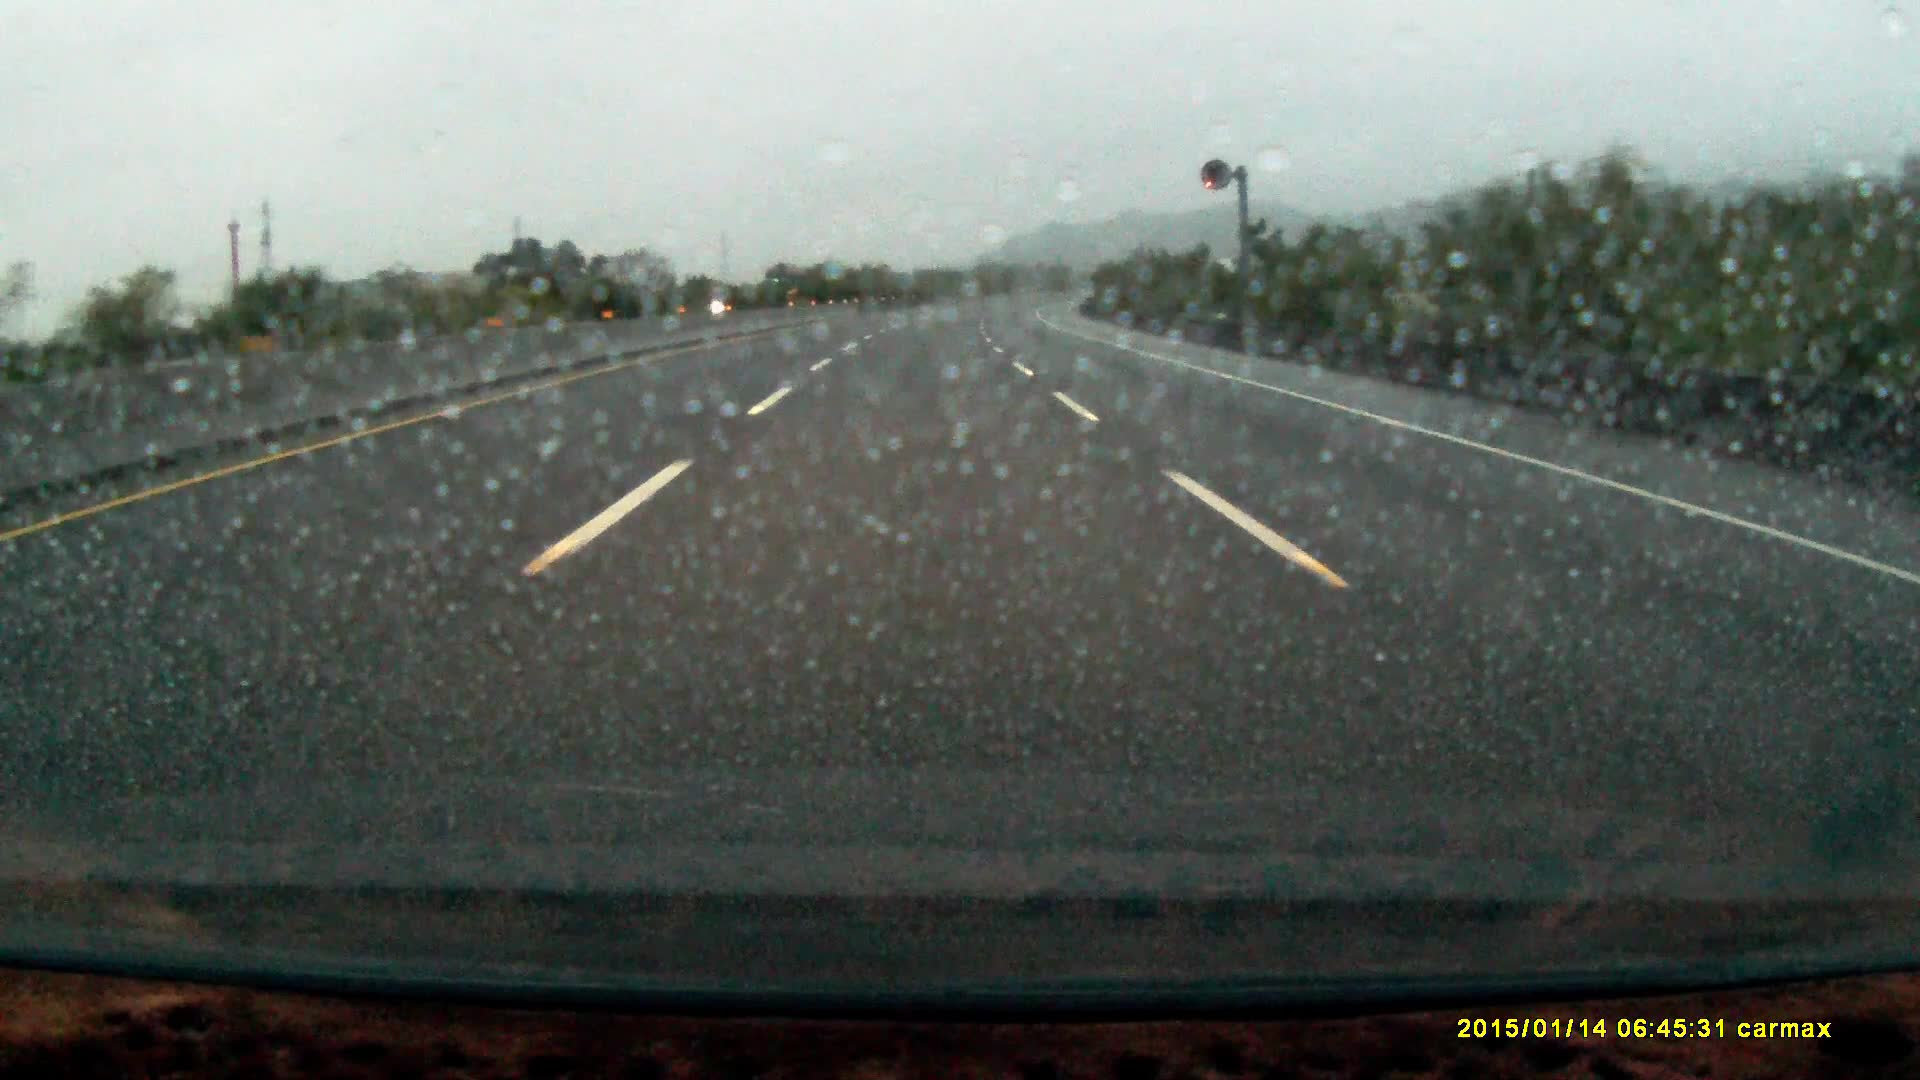vehicle: (765, 264, 807, 305)
